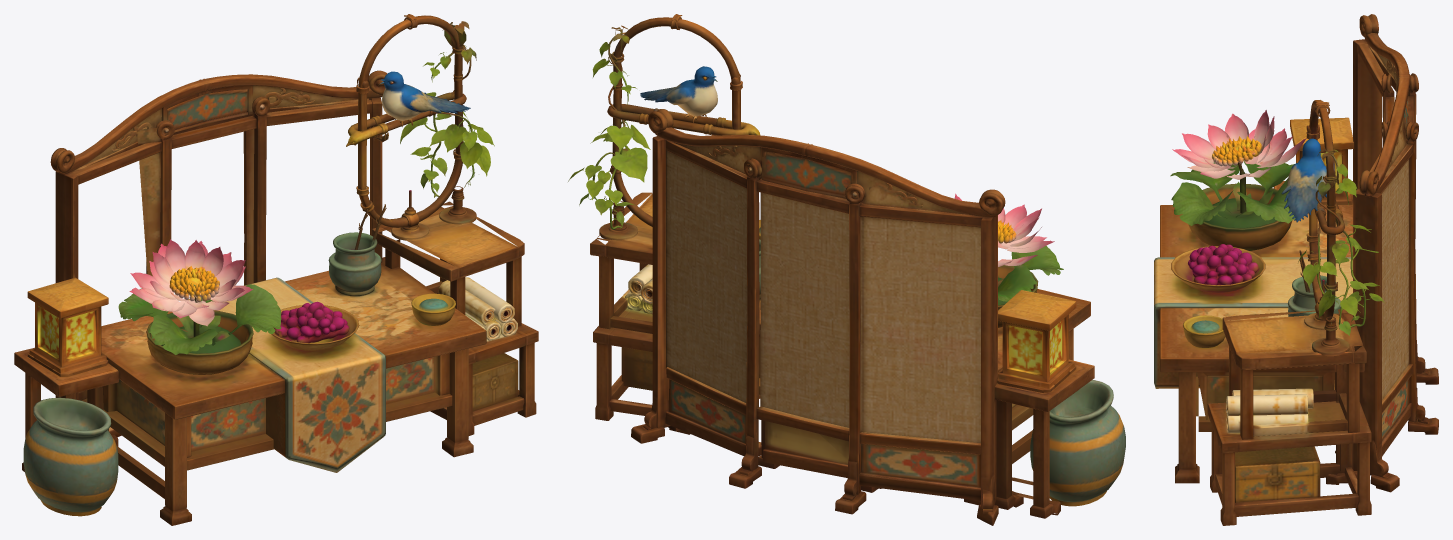
File: mural-station.glb
3 views of the same model, side by side, from view 1: azimuth 30°, elevation 25°; view 2: azimuth 150°, elevation 25°; view 3: azimuth 270°, elevation 25° (orthographic). The views are drawn at different scales.
Parts seen in each view (by area): view 1: tripo_9ce387c0_2ca7_430a_9375_5d4cc083d8bf; view 2: tripo_9ce387c0_2ca7_430a_9375_5d4cc083d8bf; view 3: tripo_9ce387c0_2ca7_430a_9375_5d4cc083d8bf.
Part boxes in pixels (<box>): tripo_9ce387c0_2ca7_430a_9375_5d4cc083d8bf: <box>14,14,538,525</box>; tripo_9ce387c0_2ca7_430a_9375_5d4cc083d8bf: <box>568,14,1125,525</box>; tripo_9ce387c0_2ca7_430a_9375_5d4cc083d8bf: <box>1154,14,1438,525</box>.
Bounding box in the file's own units: 0.9995 × 0.7485 × 0.4995.
Materials: 1 (1 with a texture image).
